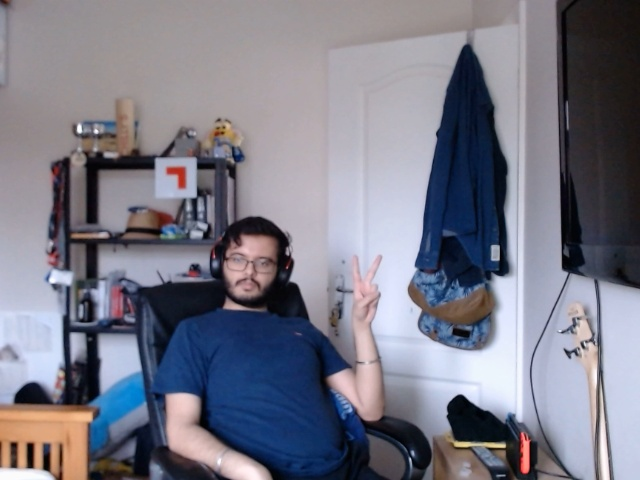Peace: (345, 243, 388, 343)
